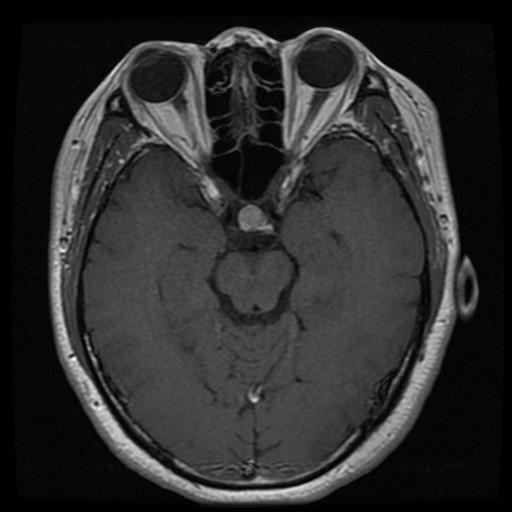Pituirity_tumour: (239, 205, 265, 227)
